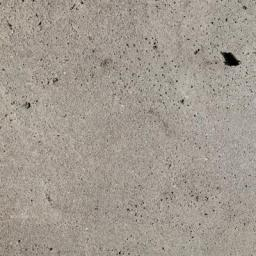FOD: (219, 49, 246, 70)
